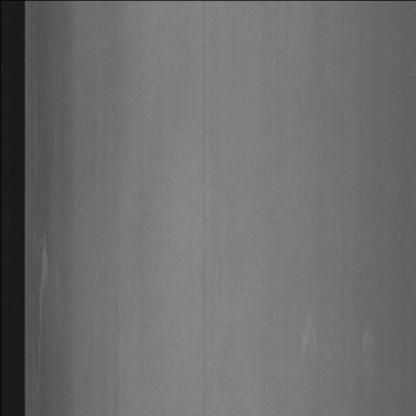silk_spot: (30, 219, 66, 367)
